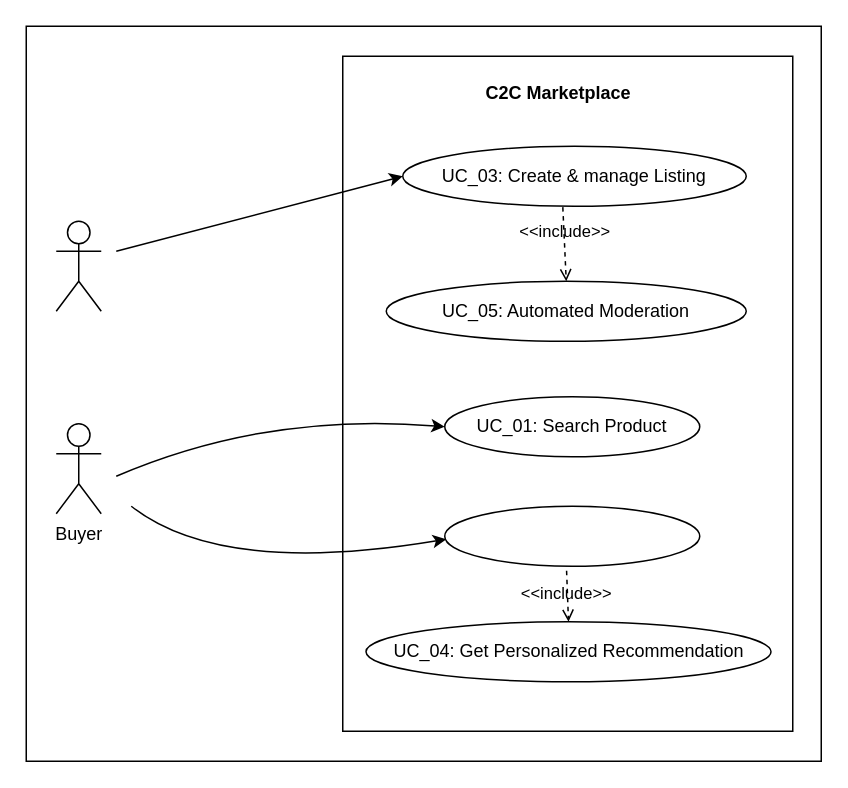
This 848x788 diagram has some shape labels left out. The shapes that lost their labels are listed below. From the top down, each one's box as (x1, y1, x2, y2) in pixels, then its label:
(55, 220, 101, 311): Seller
(443, 505, 700, 566): UC_02: View Home Page
